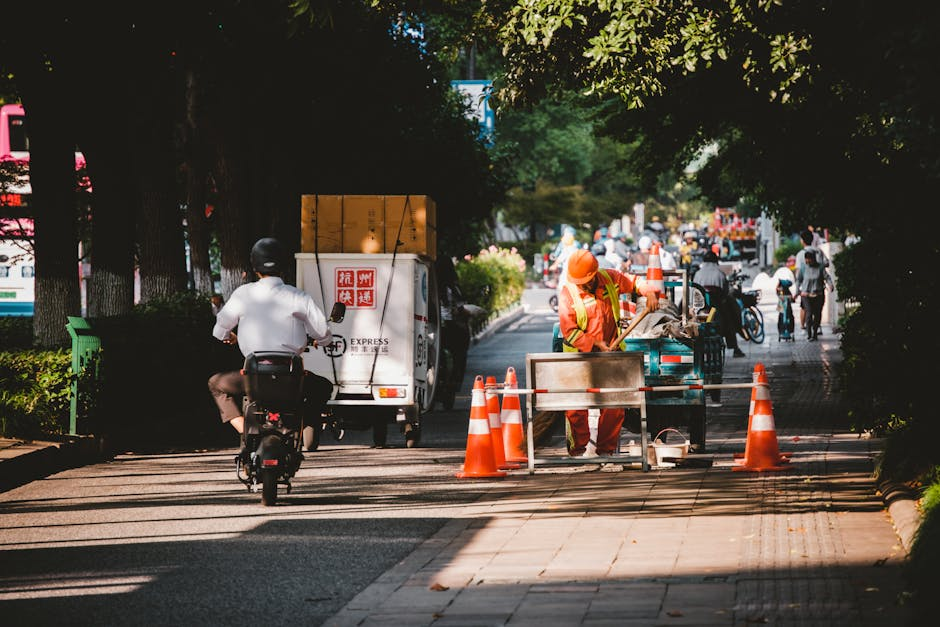traffic_cone: (732, 362, 794, 470), (732, 383, 794, 472), (455, 375, 507, 479), (732, 362, 773, 461), (484, 375, 520, 470), (499, 366, 529, 463), (483, 375, 508, 470), (745, 362, 773, 436), (645, 242, 666, 299), (542, 253, 550, 283)
